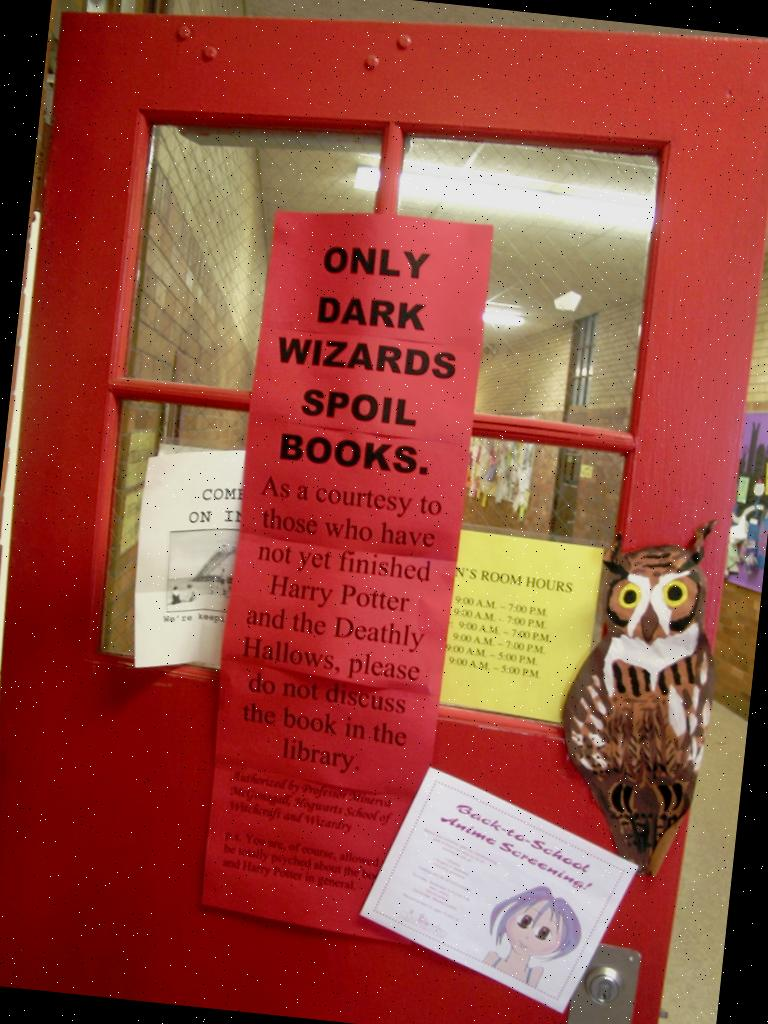Owl: (540, 504, 728, 887)
